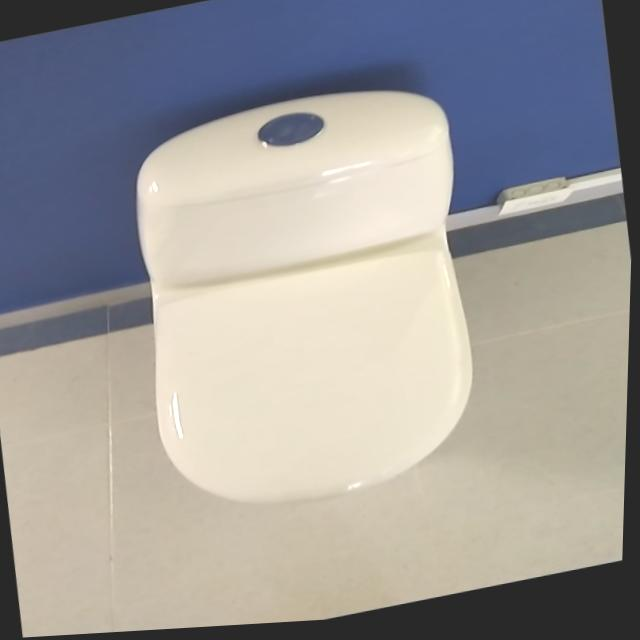toilet: (114, 71, 501, 534)
